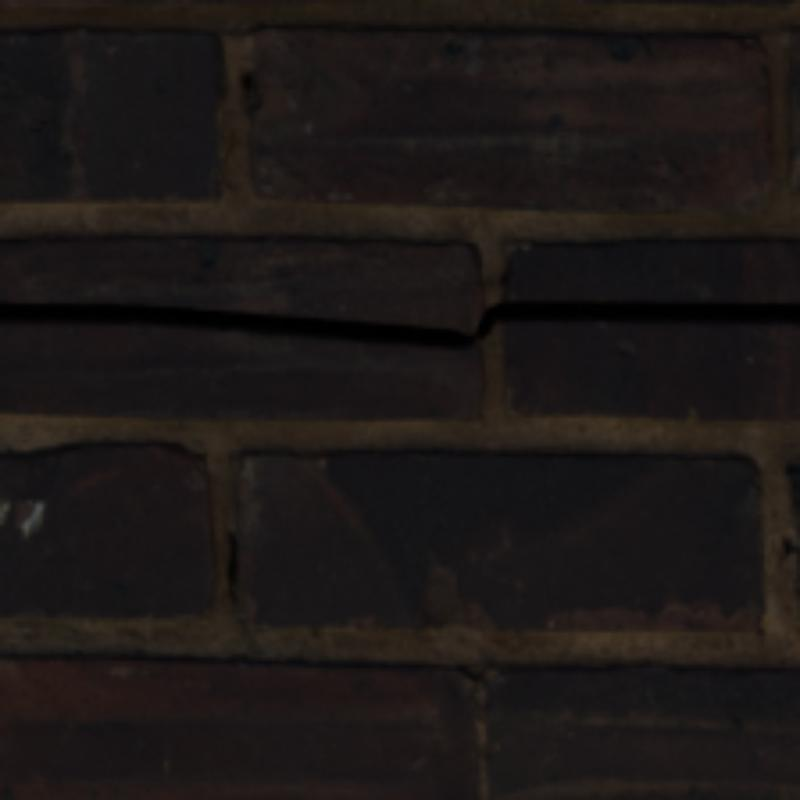pothole: (0, 300, 796, 346)
